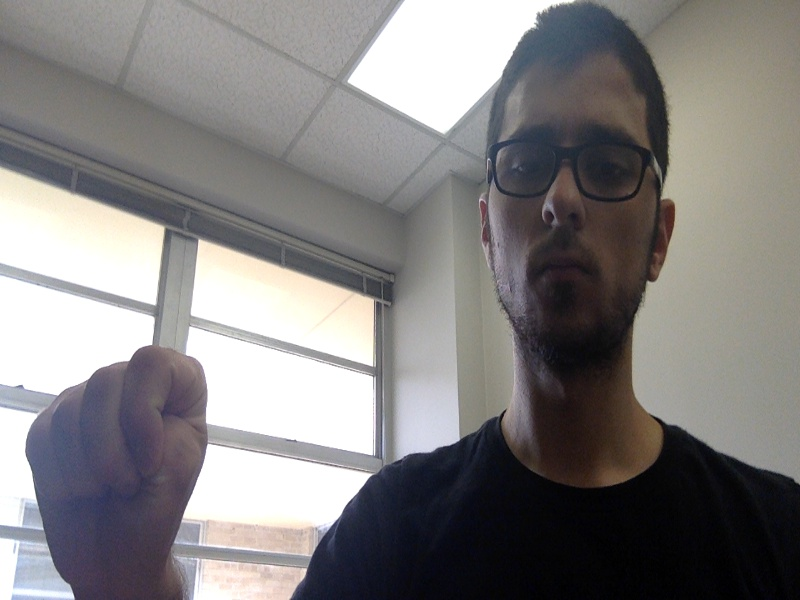0-hand: (25, 347, 207, 592)
